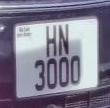0: (46, 55, 59, 94), (58, 54, 71, 93), (70, 54, 83, 91)
3: (32, 56, 47, 95)
H: (43, 22, 58, 61)
N: (57, 19, 72, 60)
